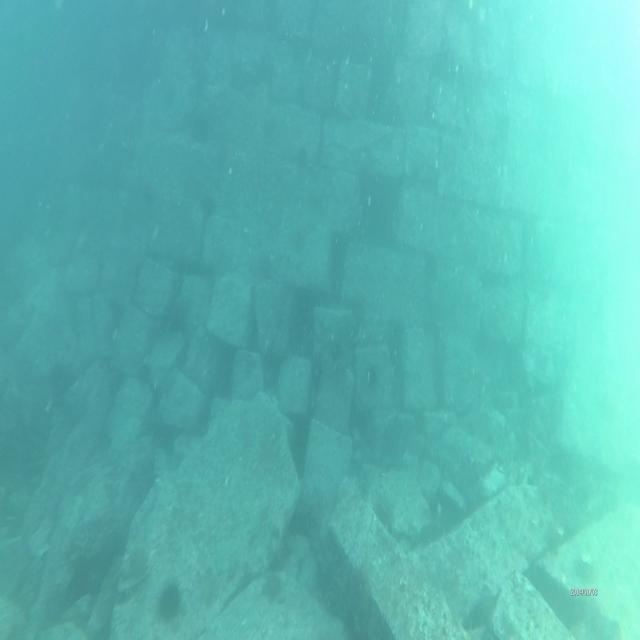echinus: (157, 580, 184, 627)
